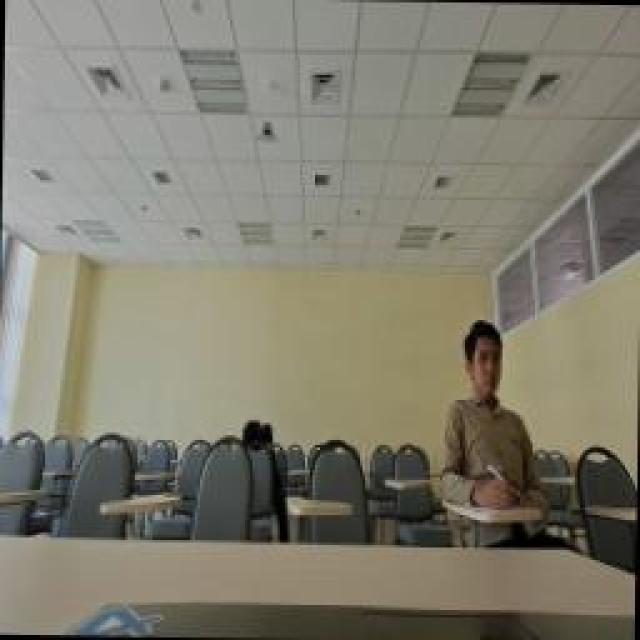sleep: (240, 420, 275, 455)
study: (440, 320, 548, 508)
